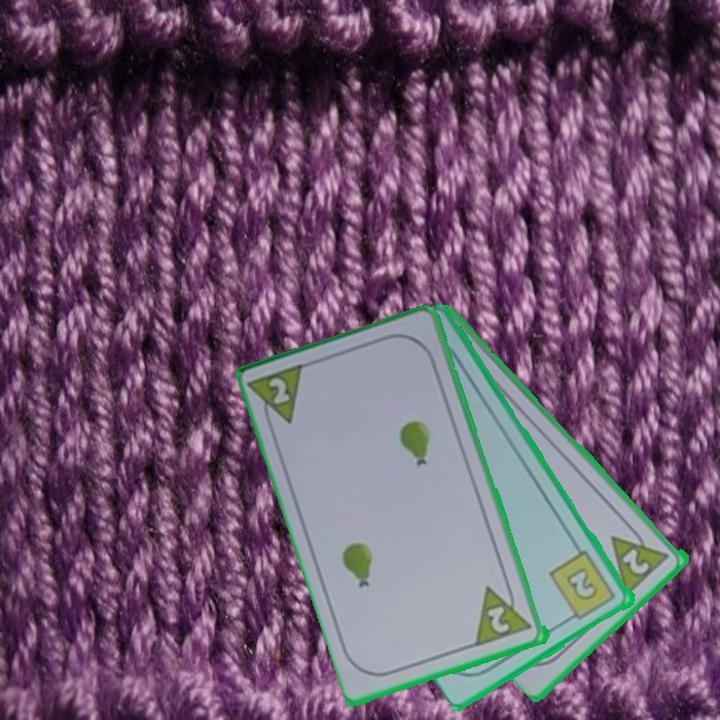2b: (546, 547, 620, 625)
2p: (619, 544, 653, 578), (484, 602, 514, 637), (266, 374, 294, 408)
